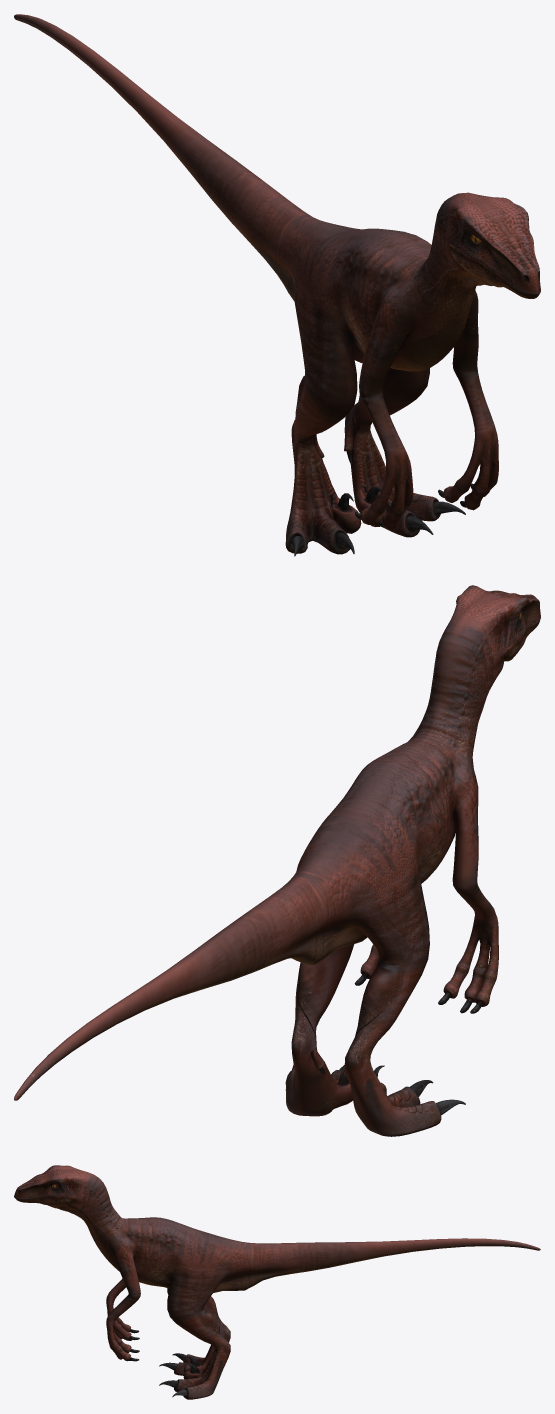
File: velociraptor.glb
3 views of the same model, one above another, from view 1: azimuth 30°, elevation 25°; view 2: azimuth 150°, elevation 25°; view 3: azimuth 270°, elevation 25° (orthographic). The views are drawn at different scales.
Visible parts, largest first — view 1: Raptor_0; view 2: Raptor_0; view 3: Raptor_0.
Part boxes in pixels (x1,y1,x2,y2): Raptor_0: (14, 14, 540, 556); Raptor_0: (14, 585, 540, 1136); Raptor_0: (14, 1165, 540, 1399).
Bounding box in the file's own units: 0.6235 × 1.47 × 3.3.
Materials: 5 (2 with a texture image).
